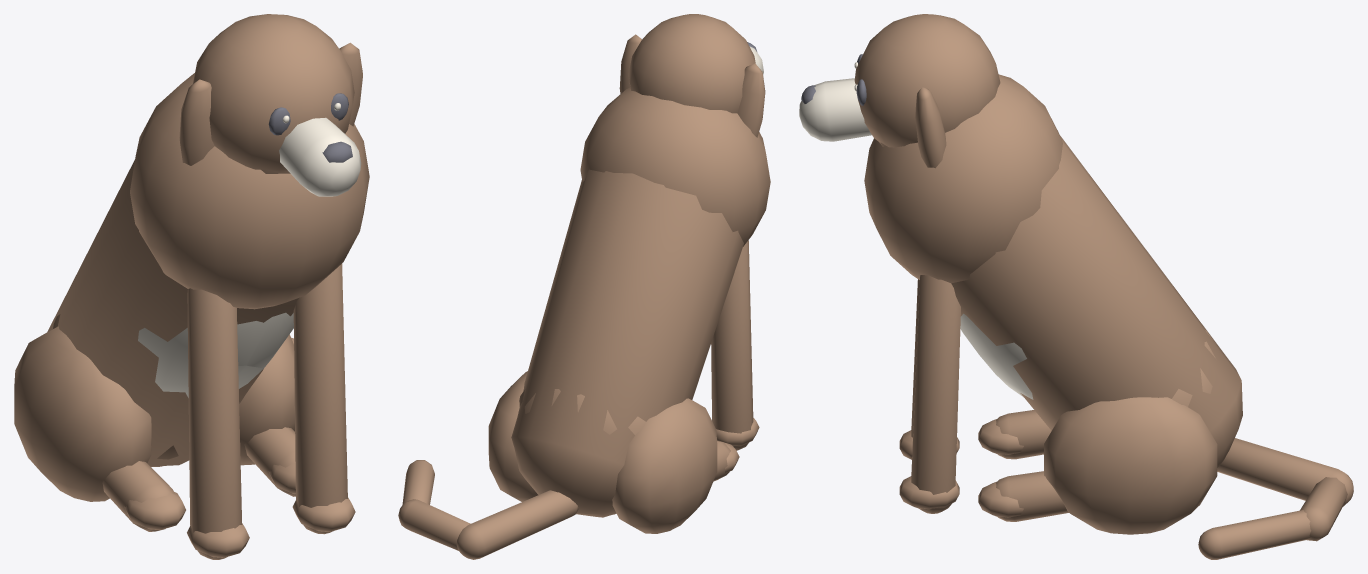
The model's file is companion-animals-and-pet-home-dog-spaniel-sit-2cfedea4__20570.glb.
The picture shows the model from 3 angles, left to right: view 1: azimuth 30°, elevation 25°; view 2: azimuth 150°, elevation 25°; view 3: azimuth 270°, elevation 25°; orthographic projection. The views are drawn at different scales.
Visible parts, largest first — view 1: dog-spaniel-sit; view 2: dog-spaniel-sit; view 3: dog-spaniel-sit.
Boxes of the visible parts, bbox=[...] form: dog-spaniel-sit: bbox=[14, 14, 369, 559]; dog-spaniel-sit: bbox=[398, 14, 770, 559]; dog-spaniel-sit: bbox=[799, 14, 1353, 559].
Size of the model in its own units: 0.3719 by 0.5878 by 0.617.
